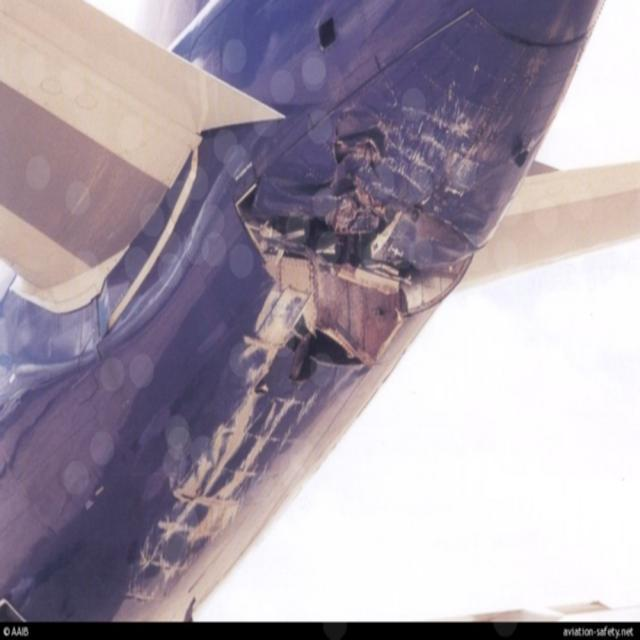crack: (234, 124, 424, 389)
